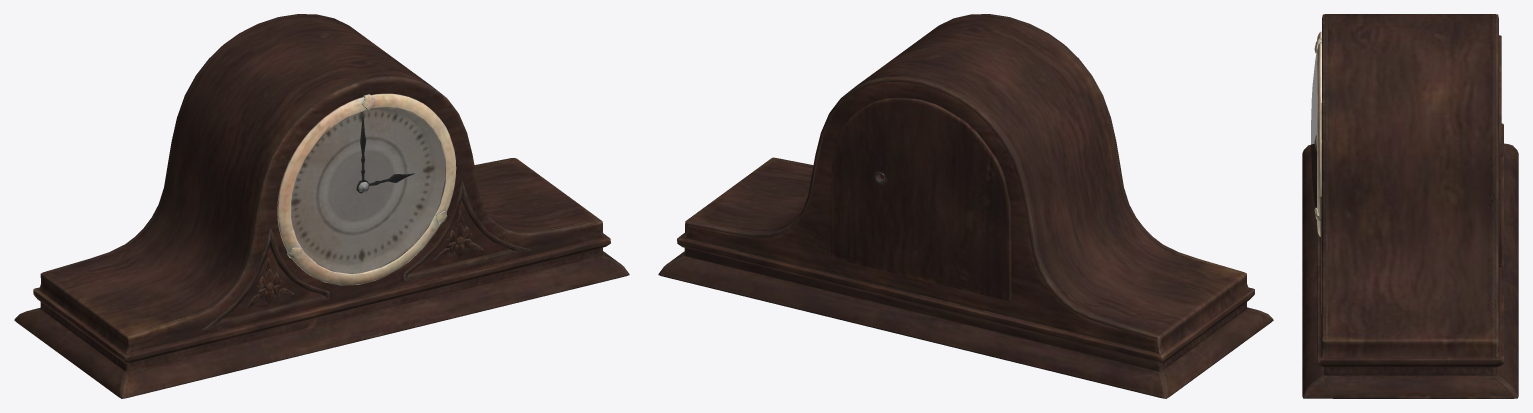
Rendered from mantel_clock_01.glb.
3 renders of one model, left to right at view 1: azimuth 30°, elevation 25°; view 2: azimuth 150°, elevation 25°; view 3: azimuth 270°, elevation 25°, orthographic.
Visible parts, largest first — view 1: mantel_clock_01, mantel_clock_01_glass; view 2: mantel_clock_01; view 3: mantel_clock_01, mantel_clock_01_glass.
Part boxes in pixels (left/top/right/bottom): mantel_clock_01: left=14, top=14, right=629, bottom=398; mantel_clock_01_glass: left=291, top=108, right=445, bottom=273; mantel_clock_01: left=658, top=14, right=1273, bottom=398; mantel_clock_01: left=1302, top=14, right=1518, bottom=398; mantel_clock_01_glass: left=1311, top=53, right=1316, bottom=207.
Size of the model in its own units: 0.3423 by 0.1605 by 0.1262.
2 materials, 2 textured.
